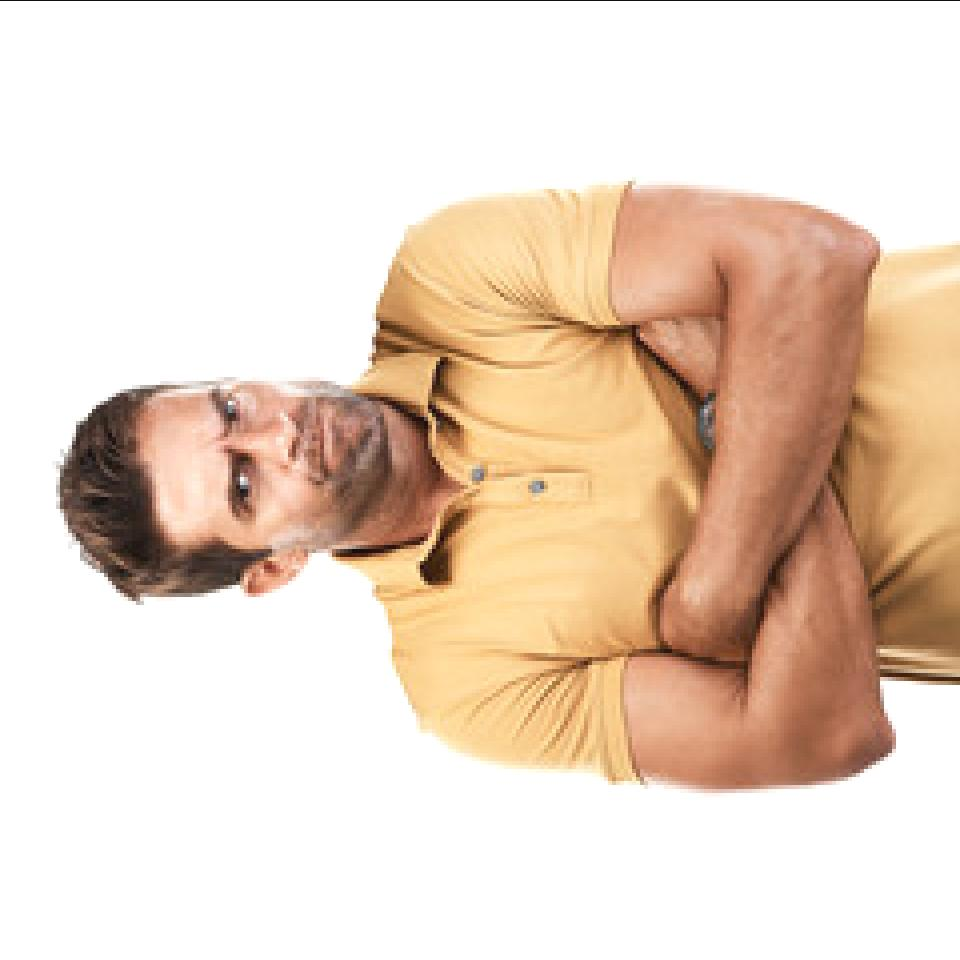Anger: (139, 387, 388, 551)
